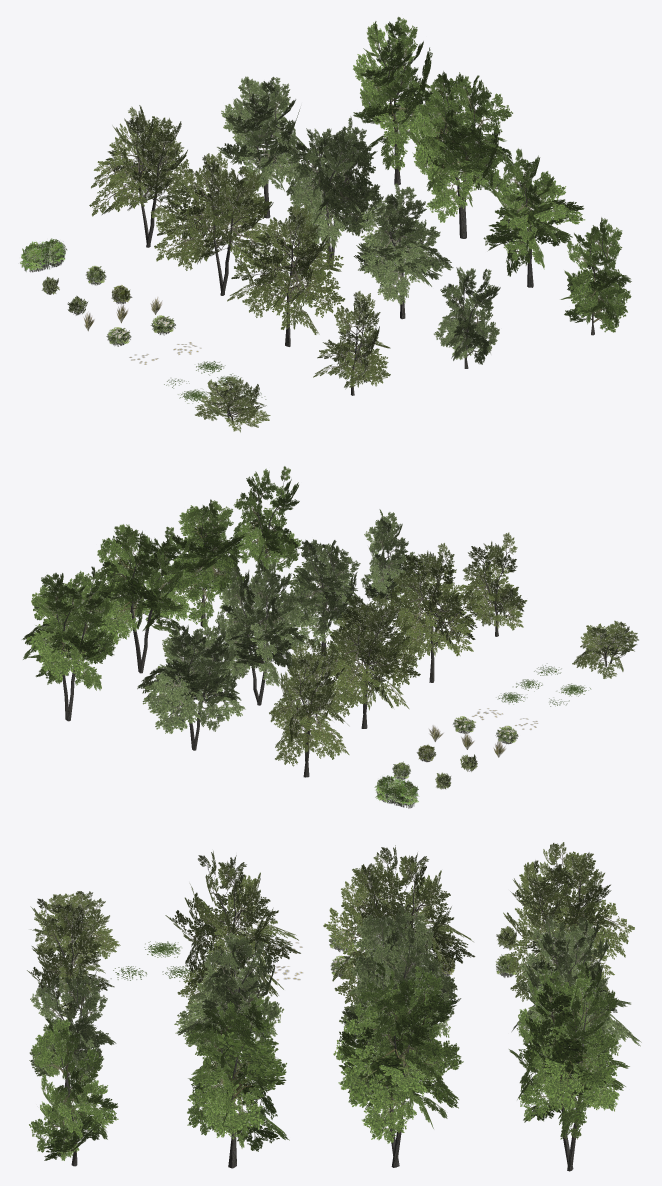
The model's file is Plants.glb.
The picture shows the model from 3 angles, top to bottom: view 1: azimuth 30°, elevation 25°; view 2: azimuth 150°, elevation 25°; view 3: azimuth 270°, elevation 25°; orthographic projection. The views are drawn at different scales.
Visible parts, largest first — view 1: Tree-03-2, Tree-01-2, Tree-01-3, Tree-02-2, Tree-01-1, Tree-03-1, Tree-03-3, Tree-02-3, Tree-02-1, Tree-03-4, Tree-02-4, Tree-01-4 (+2 smaller); view 2: Tree-03-2, Tree-03-1, Tree-02-1, Tree-02-2, Tree-01-2, Tree-01-3, Tree-01-1, Tree-03-3, Tree-02-3, Tree-03-4, Tree-01-4, Tree-02-4 (+2 smaller); view 3: Tree-03-2, Tree-03-1, Tree-03-3, Tree-01-1, Tree-01-2, Tree-01-3, Tree-03-4, Tree-02-2, Tree-02-3, Tree-02-1, Tree-02-4, Tree-01-4 (+1 smaller).
Boxes of the visible parts, x1,y1,x2,y2 form: Tree-03-2: (412, 71, 514, 238); Tree-01-2: (154, 151, 273, 295); Tree-01-3: (227, 204, 344, 346); Tree-02-2: (285, 116, 383, 266); Tree-01-1: (89, 105, 192, 247); Tree-03-1: (353, 16, 442, 184); Tree-03-3: (483, 148, 585, 287); Tree-02-3: (353, 182, 453, 319); Tree-02-1: (217, 76, 307, 218); Tree-03-4: (560, 217, 631, 335); Tree-02-4: (433, 266, 500, 368); Tree-01-4: (313, 291, 390, 395); Tree-03-2: (95, 524, 191, 673); Tree-03-1: (22, 566, 115, 721); Tree-02-1: (137, 622, 245, 750); Tree-02-2: (215, 559, 306, 705); Tree-01-2: (314, 589, 421, 728); Tree-01-3: (383, 543, 484, 682); Tree-01-1: (269, 639, 349, 777); Tree-03-3: (160, 499, 244, 628); Tree-02-3: (286, 539, 363, 655); Tree-03-4: (233, 466, 301, 582); Tree-01-4: (459, 532, 527, 636); Tree-02-4: (360, 509, 419, 608); Tree-03-2: (333, 962, 463, 1167); Tree-03-1: (509, 962, 629, 1171); Tree-03-3: (185, 996, 289, 1168); Tree-01-1: (503, 842, 634, 1010); Tree-01-2: (323, 845, 475, 1004); Tree-01-3: (165, 851, 300, 1019); Tree-03-4: (29, 1017, 118, 1166); Tree-02-2: (339, 906, 461, 1080); Tree-02-3: (174, 931, 284, 1061); Tree-02-1: (512, 916, 641, 1091); Tree-02-4: (29, 969, 116, 1087); Tree-01-4: (27, 898, 114, 1021).
Size of the model in its own units: 25.65 by 9.14 by 24.98.
22 materials, 22 textured.
